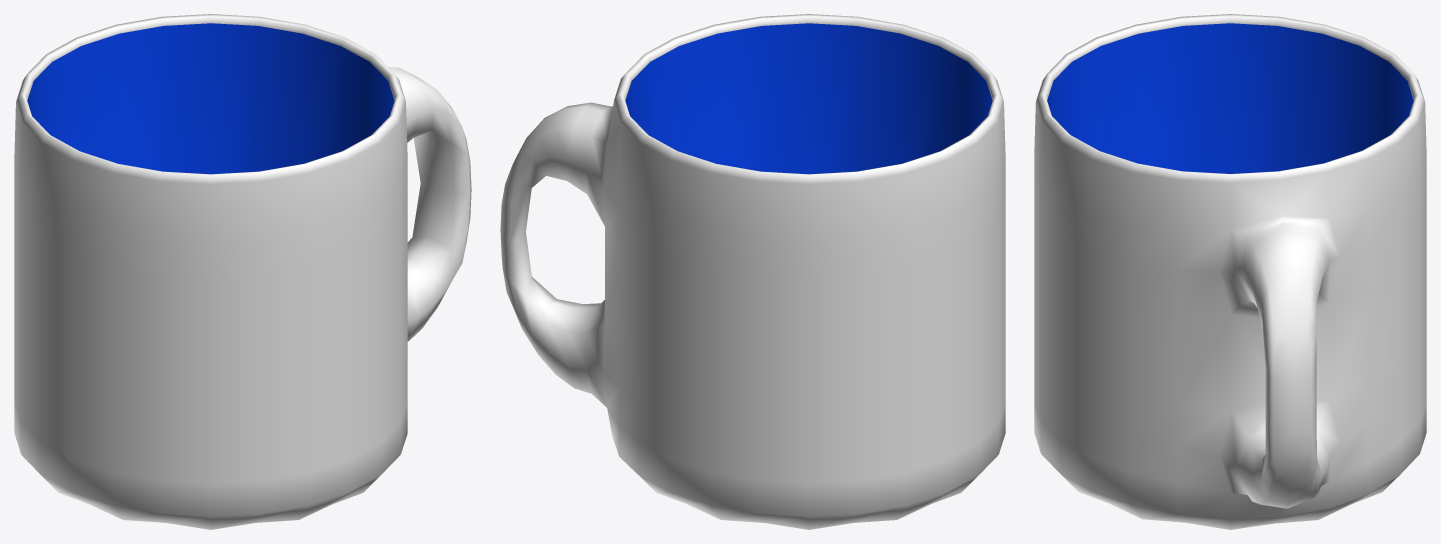
File: Teacup.fbx
3 views of the same model, side by side, from view 1: azimuth 30°, elevation 25°; view 2: azimuth 150°, elevation 25°; view 3: azimuth 270°, elevation 25° (orthographic).
Parts seen in each view (by area): view 1: pCylinder1; view 2: pCylinder1; view 3: pCylinder1.
Part boxes in pixels (x1=…): pCylinder1: x1=14, y1=14, x2=471, y2=529; pCylinder1: x1=500, y1=14, x2=1005, y2=529; pCylinder1: x1=1034, y1=14, x2=1426, y2=529.
Bounding box in the file's own units: 38.64 × 30.1 × 29.1.
